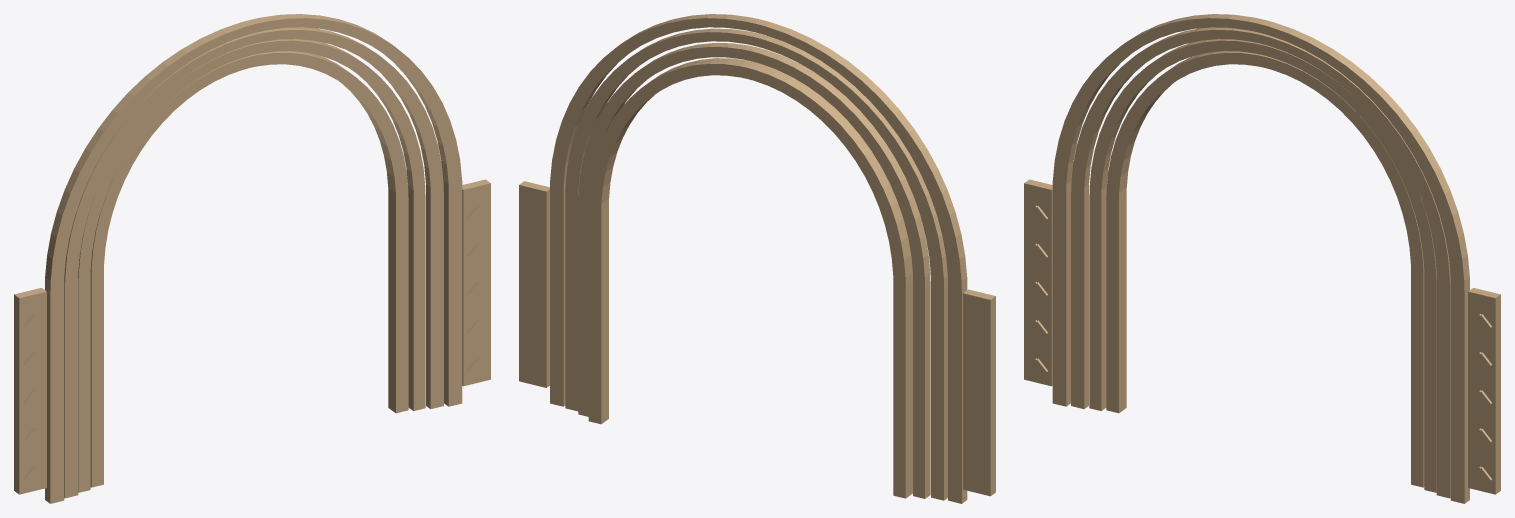
Rendered from marine-archivolt-relief.lod0.glb.
3 views of the same model, side by side, from view 1: azimuth 30°, elevation 25°; view 2: azimuth 150°, elevation 25°; view 3: azimuth 330°, elevation 25° (orthographic).
Visible parts, largest first — view 1: marine-archivolt-relief; view 2: marine-archivolt-relief; view 3: marine-archivolt-relief.
Boxes of the visible parts, <box> form: marine-archivolt-relief: <box>14,14,490,503</box>; marine-archivolt-relief: <box>519,14,995,503</box>; marine-archivolt-relief: <box>1024,14,1500,503</box>.
Size of the model in its own units: 8.24 by 7.18 by 0.44.
